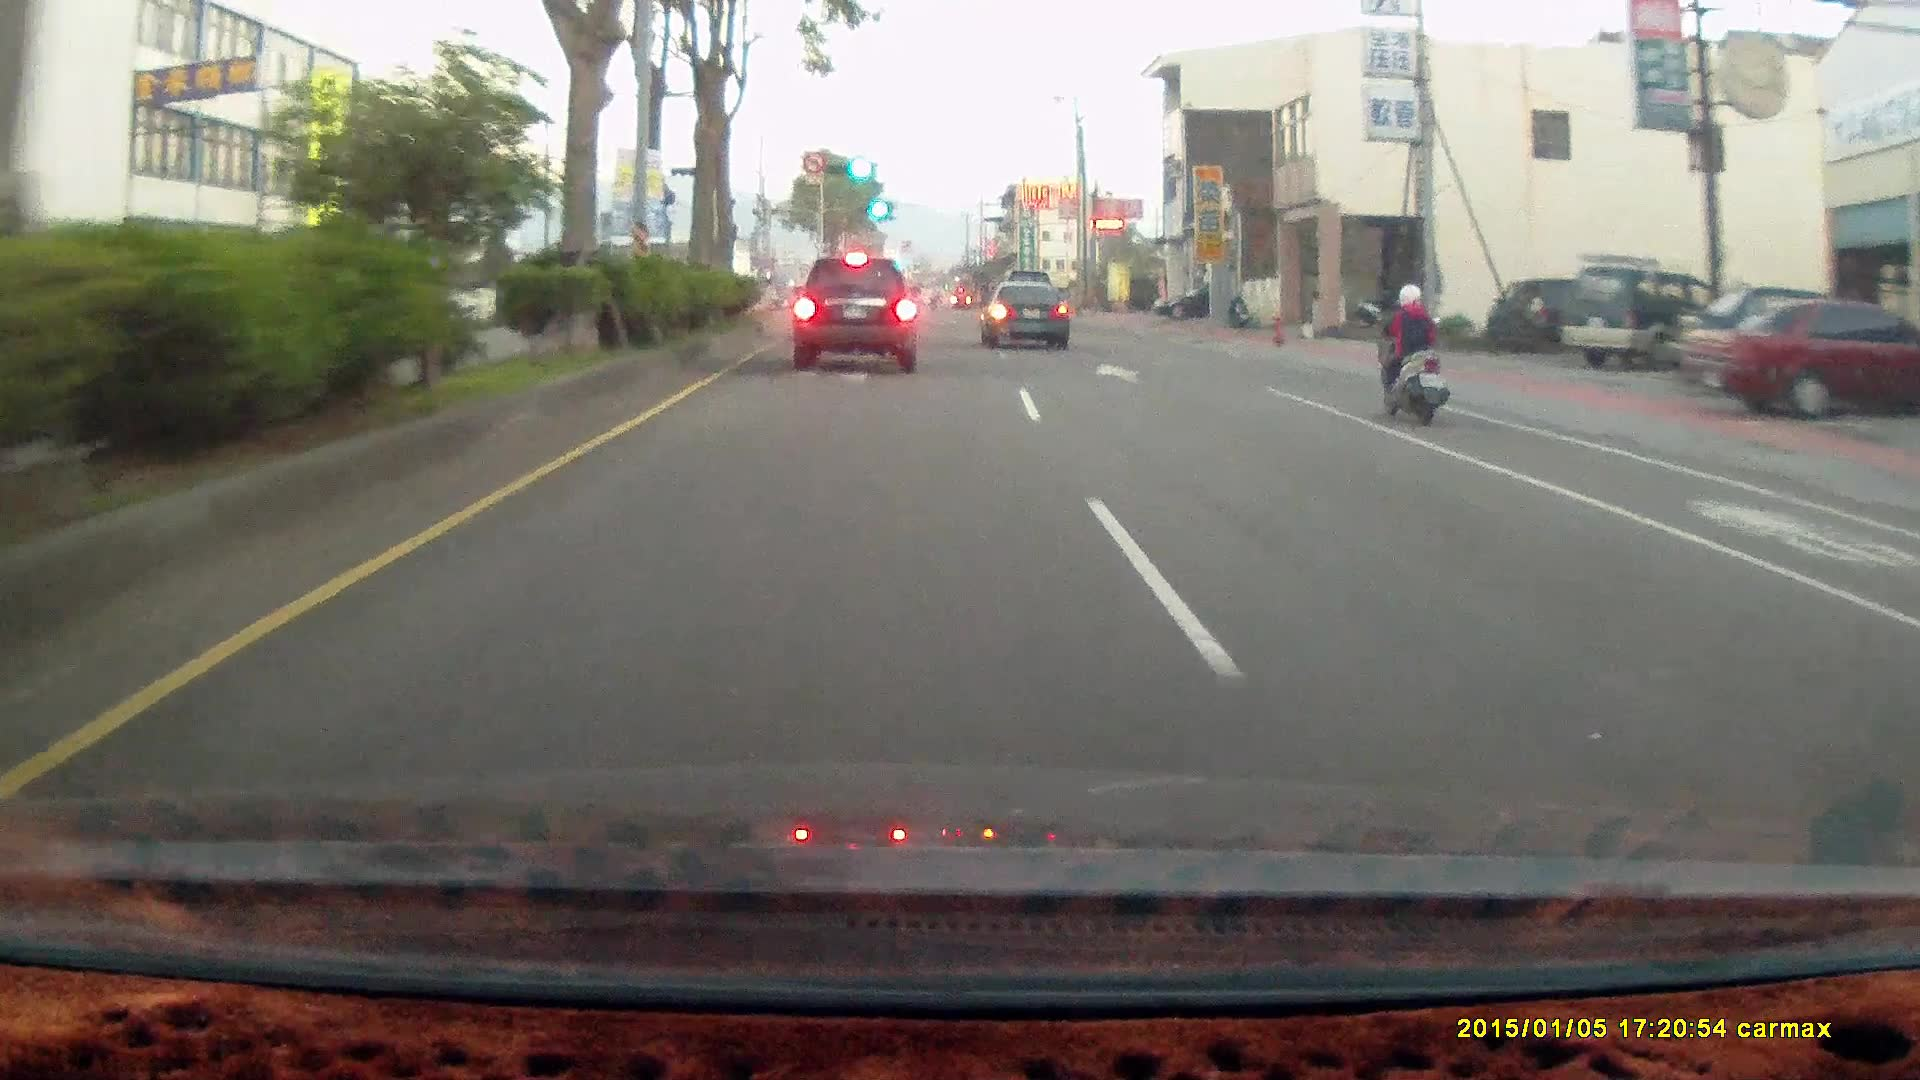rider: (1359, 269, 1464, 438), (1372, 280, 1449, 423)
vehicle: (1681, 297, 1920, 421), (1557, 265, 1723, 377), (1556, 265, 1722, 372), (791, 255, 920, 372), (797, 253, 922, 372), (1486, 279, 1590, 352), (981, 284, 1074, 349), (981, 279, 1069, 346), (1151, 285, 1245, 319), (1151, 287, 1212, 324)
